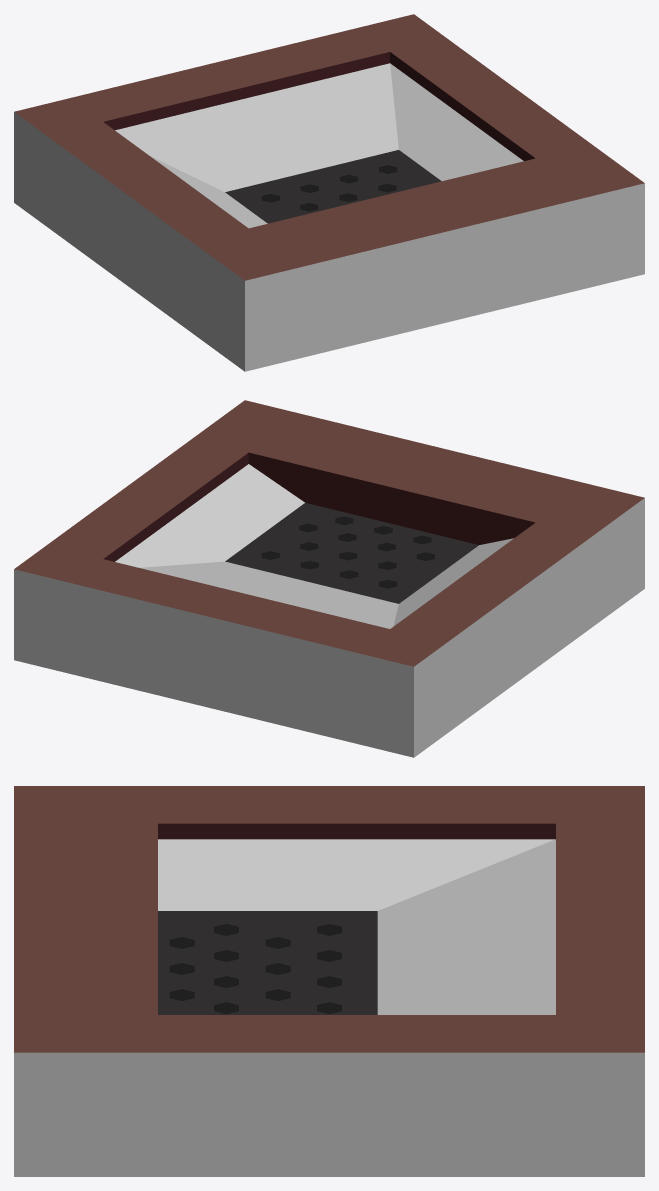
Rendered from vce_drain_deep.obj.
3 views of the same model, one above another, from view 1: azimuth 30°, elevation 25°; view 2: azimuth 150°, elevation 25°; view 3: azimuth 270°, elevation 25° (orthographic). The views are drawn at different scales.
Bounding box in the file's own units: 0.92 × 0.2 × 0.92.
